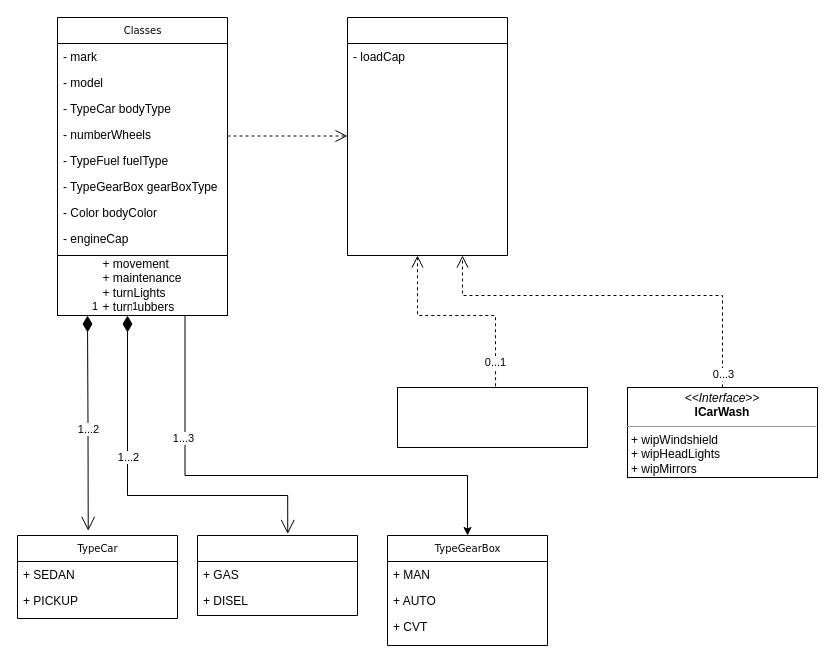
Image size: 835x663. Some labels were removed from this diagram. The shapes that lost their labels are listed below. From the top down, each one's box as (x1, y1, x2, y2) in pixels, then its label:
(346, 16, 508, 256): PickUp
(396, 386, 588, 448): <<Interface>> IFuelStation + fuel
(196, 534, 358, 616): TypeFuel
